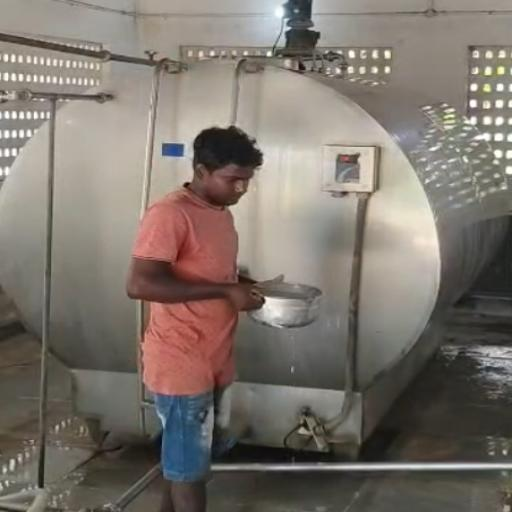silo: (0, 55, 510, 452)
vessel: (246, 281, 326, 329)
